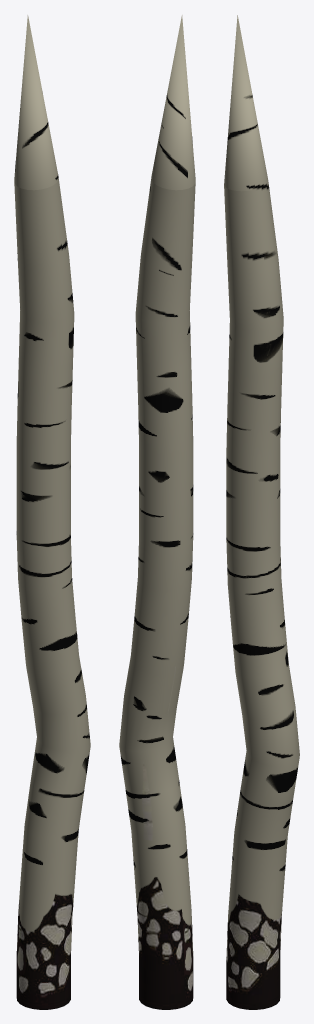
File: Tree!.fbx
3 views of the same model, side by side, from view 1: azimuth 30°, elevation 25°; view 2: azimuth 150°, elevation 25°; view 3: azimuth 330°, elevation 25° (orthographic).
Visible parts, largest first — view 1: Object042; view 2: Object042; view 3: Object042.
Boxes of the visible parts, x1=… form: Object042: x1=14, y1=15, x2=90, y2=1009; Object042: x1=119, y1=15, x2=195, y2=1009; Object042: x1=224, y1=15, x2=299, y2=1009.
Bounding box in the file's own units: 29.23 × 394 × 19.7.
1 material, 1 textured.
